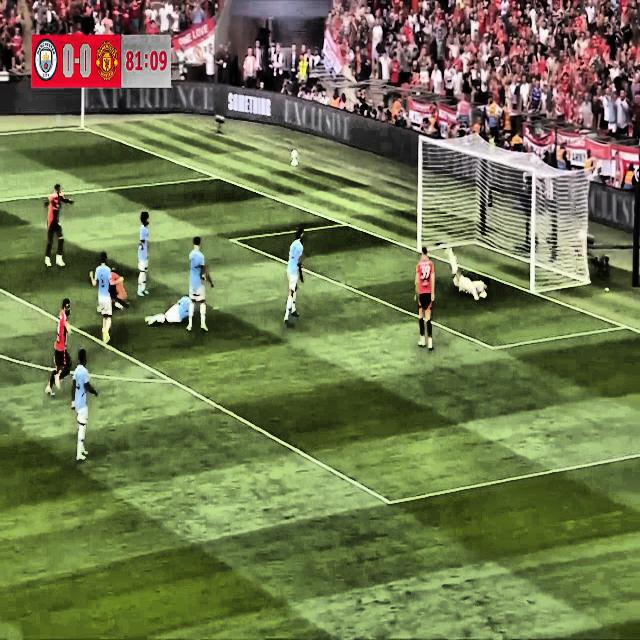ball: (575, 220, 591, 253)
goal_keeper: (442, 232, 496, 314)
players: (39, 177, 80, 271), (279, 219, 312, 329), (90, 246, 122, 352), (76, 351, 106, 464), (413, 243, 438, 355), (45, 294, 72, 393), (148, 291, 213, 331), (188, 234, 212, 327), (134, 204, 153, 298), (106, 264, 128, 312)
